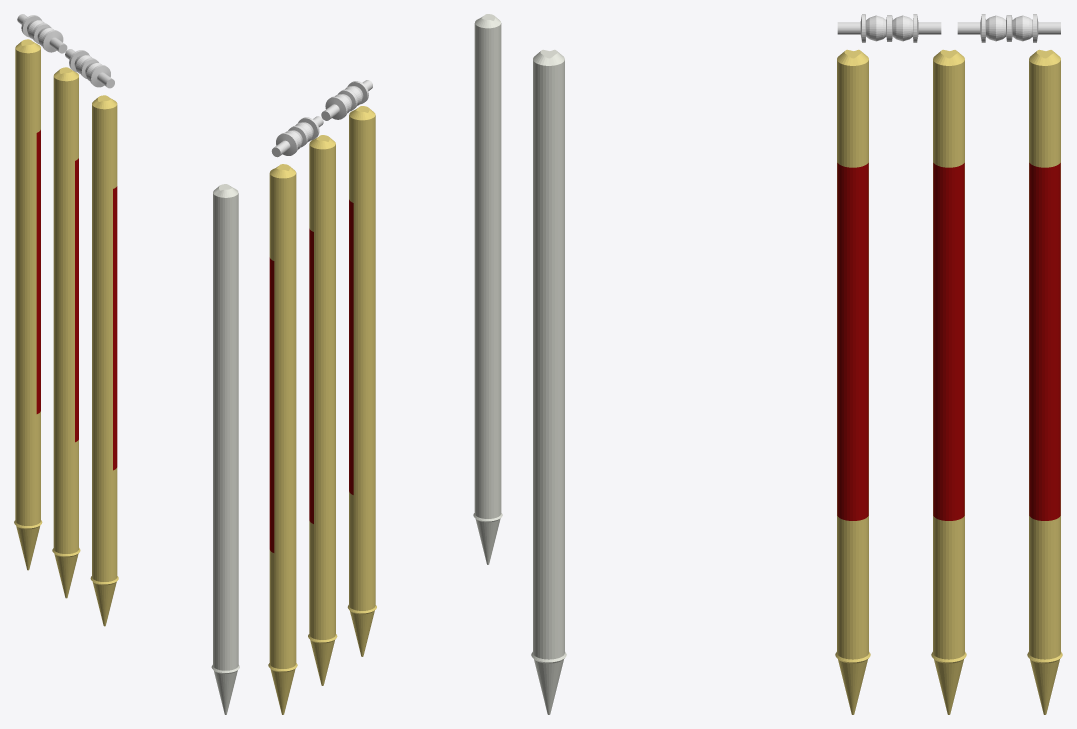
Rendered from stumps.fbx.
3 renders of one model, left to right at view 1: azimuth 30°, elevation 25°; view 2: azimuth 150°, elevation 25°; view 3: azimuth 270°, elevation 25°, orthographic. The views are drawn at different scales.
Visible parts, largest first — view 1: Cylinder.006, Cylinder.002, Cylinder.001, Cylinder.007, Cylinder.003, Cylinder.004; view 2: Cylinder.007, Cylinder.001, Cylinder.006, Cylinder.002, Cylinder.003, Cylinder.004; view 3: Cylinder.007, Cylinder.001, Cylinder.002, Cylinder.006, Cylinder.004, Cylinder.003.
Boxes of the visible parts, <box> form: Cylinder.006: <box>52,67,80,598</box>; Cylinder.002: <box>90,95,118,626</box>; Cylinder.001: <box>14,39,42,570</box>; Cylinder.007: <box>211,184,239,714</box>; Cylinder.003: <box>17,14,67,53</box>; Cylinder.004: <box>65,49,114,88</box>; Cylinder.007: <box>473,14,502,564</box>; Cylinder.001: <box>268,164,297,714</box>; Cylinder.006: <box>308,135,337,685</box>; Cylinder.002: <box>347,106,376,656</box>; Cylinder.003: <box>271,116,323,157</box>; Cylinder.004: <box>321,80,372,120</box>; Cylinder.007: <box>531,49,566,714</box>; Cylinder.001: <box>1027,49,1062,714</box>; Cylinder.002: <box>835,49,870,714</box>; Cylinder.006: <box>931,49,966,714</box>; Cylinder.004: <box>837,14,941,42</box>; Cylinder.003: <box>957,14,1060,42</box>.
Bounding box in the file's own units: 221 × 4821 × 3321.
